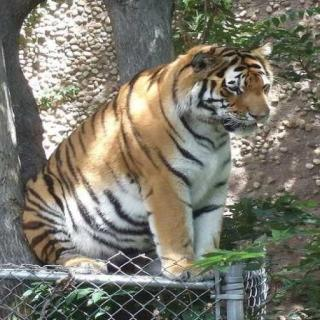Tiger: (17, 32, 278, 284)
